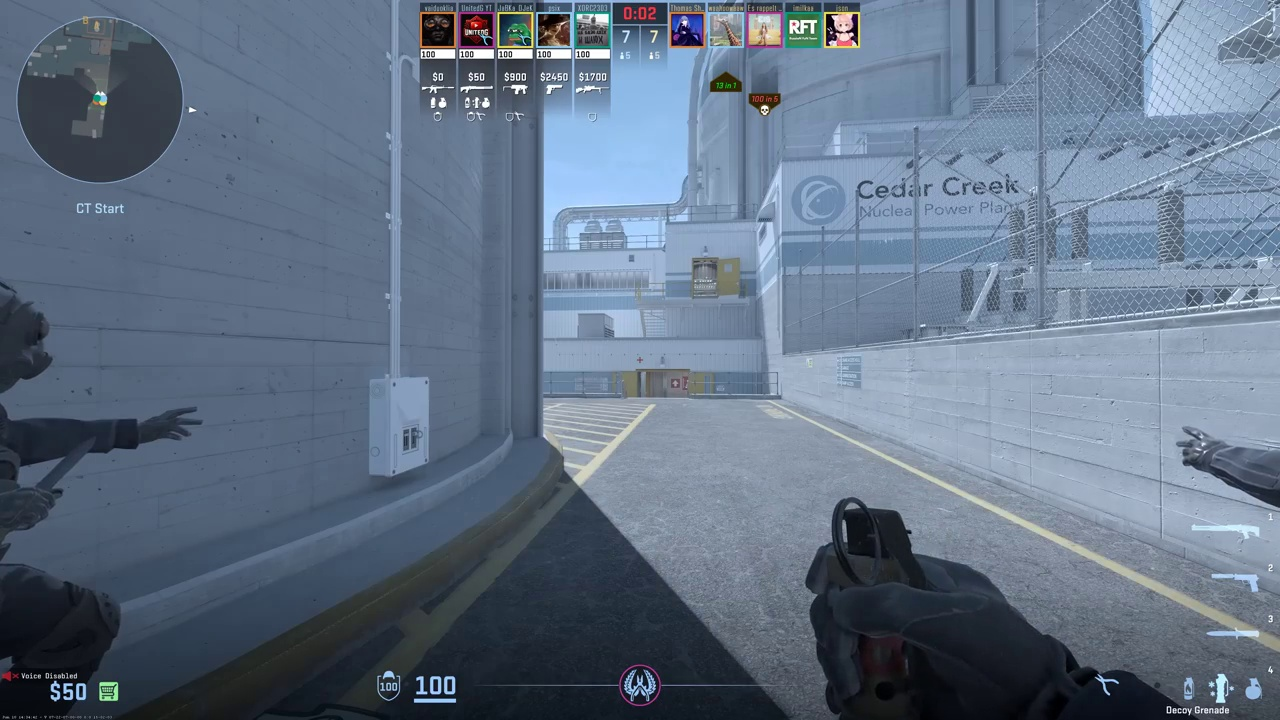CT: (0, 279, 70, 720)
